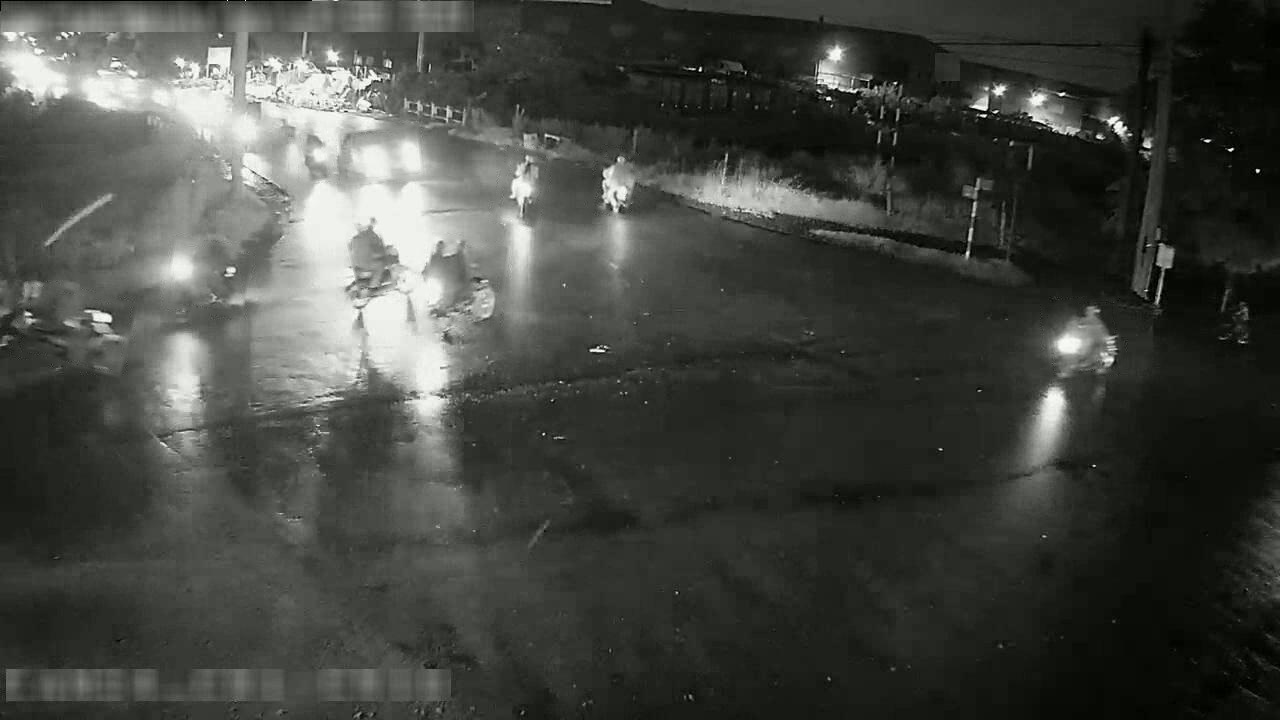Car: (338, 130, 424, 182)
Motorcyclist: (14, 290, 127, 375), (422, 240, 497, 322), (166, 239, 244, 314), (345, 219, 409, 308), (1051, 303, 1118, 378), (507, 151, 541, 223), (600, 154, 635, 213), (302, 132, 331, 179)
